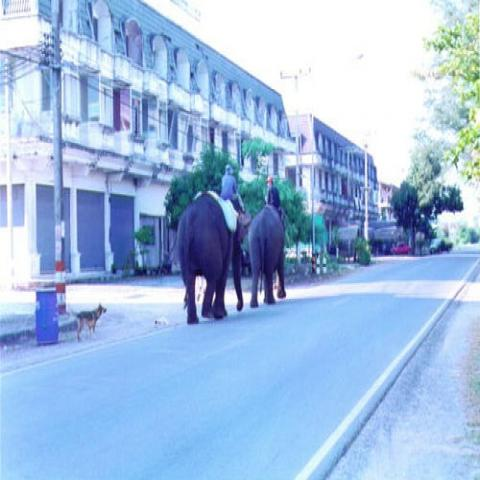car: (430, 239, 450, 255), (390, 244, 412, 255)
